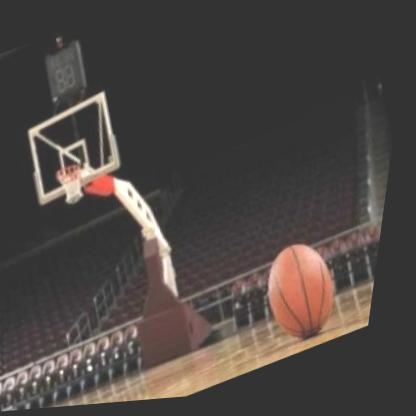basketball: (260, 238, 360, 355)
